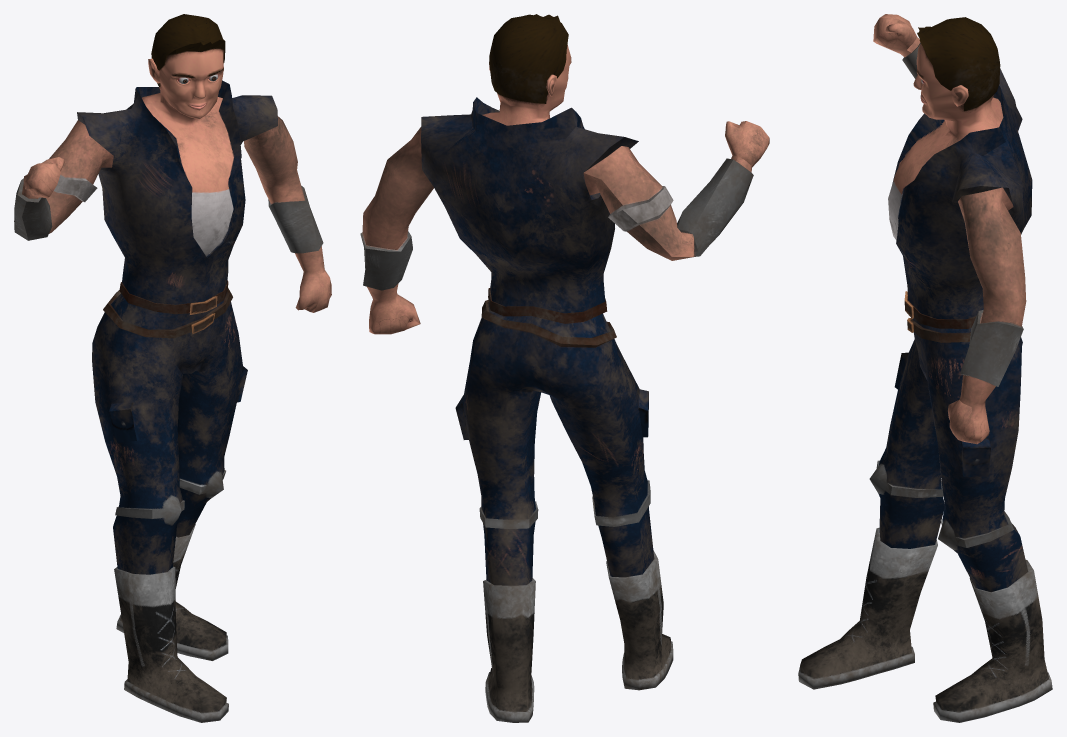
Rendered from Anim_puerta_mal_jugador.0036.obj.
3 views of the same model, side by side, from view 1: azimuth 30°, elevation 25°; view 2: azimuth 150°, elevation 25°; view 3: azimuth 270°, elevation 25° (orthographic). The views are drawn at different scales.
Parts seen in each view (by area): view 1: polySurface1; view 2: polySurface1; view 3: polySurface1.
Boxes of the visible parts, x1,y1,x2,y2 form: polySurface1: (14,14,331,722); polySurface1: (360,14,769,722); polySurface1: (798,14,1052,722).
Size of the model in its own units: 5.31 by 9.58 by 3.23.
